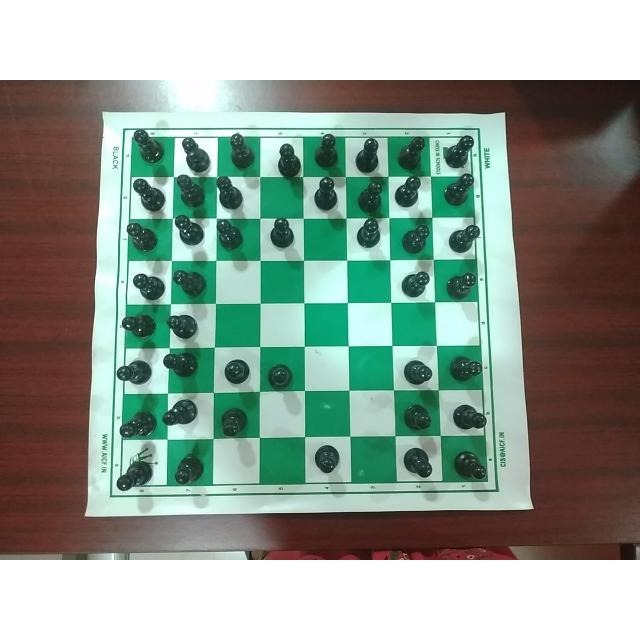black-pawn: (390, 442, 440, 482), (451, 440, 493, 484), (170, 262, 213, 304), (171, 449, 213, 491), (118, 405, 161, 446), (397, 396, 440, 436), (163, 307, 205, 347), (112, 458, 155, 497), (178, 130, 216, 174), (166, 210, 210, 248), (108, 355, 157, 389), (118, 217, 157, 259), (216, 353, 259, 391), (270, 140, 304, 188), (264, 212, 301, 255), (124, 128, 168, 164), (222, 125, 255, 173), (124, 266, 168, 302), (162, 394, 203, 431), (125, 175, 167, 211), (312, 129, 346, 173), (401, 350, 439, 389), (446, 349, 485, 387), (352, 177, 390, 215), (398, 265, 436, 303), (446, 218, 483, 257), (311, 437, 348, 476), (444, 131, 480, 171), (310, 175, 346, 215), (266, 356, 302, 396), (220, 398, 256, 438), (444, 264, 479, 305), (118, 310, 156, 347), (352, 132, 388, 171), (173, 172, 209, 211), (449, 400, 488, 436), (399, 219, 434, 259), (354, 209, 386, 252), (440, 172, 478, 208), (162, 350, 202, 384), (394, 175, 427, 210), (212, 213, 244, 249), (397, 134, 428, 170), (216, 173, 249, 205)
